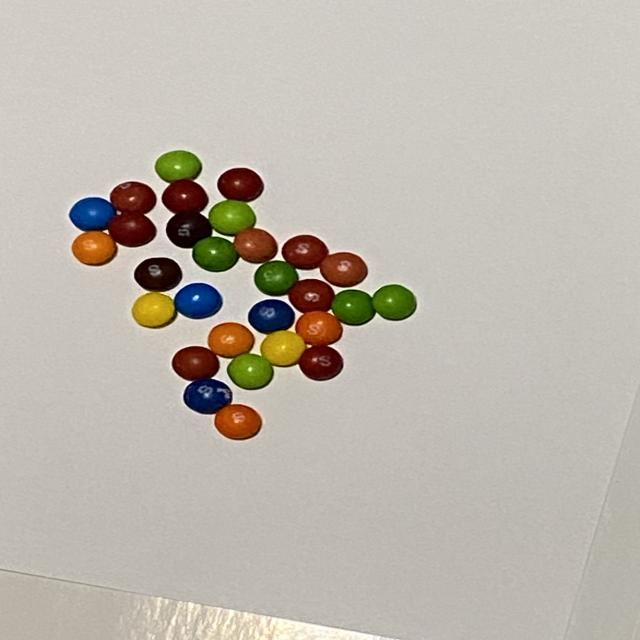smartie: (173, 283, 222, 319), (165, 211, 212, 248), (107, 211, 155, 247), (183, 379, 232, 414), (319, 252, 368, 287), (208, 199, 255, 235), (226, 354, 273, 390), (171, 346, 219, 381), (295, 311, 343, 346), (260, 330, 306, 366), (191, 237, 238, 272), (247, 299, 294, 334), (281, 234, 328, 269), (207, 323, 254, 358), (214, 405, 261, 440), (133, 257, 181, 291), (372, 284, 417, 320), (68, 197, 115, 231), (161, 179, 208, 213), (254, 260, 298, 296), (233, 227, 277, 263), (298, 346, 343, 381), (71, 230, 116, 265), (217, 167, 263, 201), (288, 279, 334, 313), (131, 292, 174, 328), (331, 290, 375, 325), (154, 150, 201, 182), (109, 181, 155, 213)
